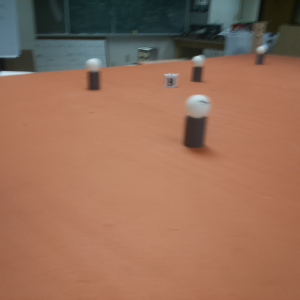obstacle: (183, 95, 213, 149), (86, 57, 102, 91), (190, 54, 206, 82), (254, 47, 268, 65)
